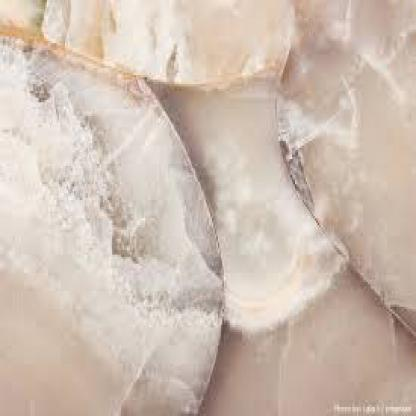Metamorphic_Marble: (5, 9, 414, 414)
